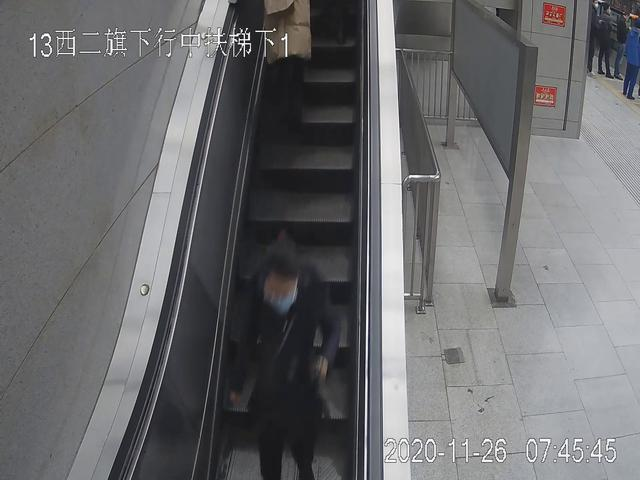person: (228, 240, 338, 480), (620, 23, 640, 101), (596, 4, 616, 78)
